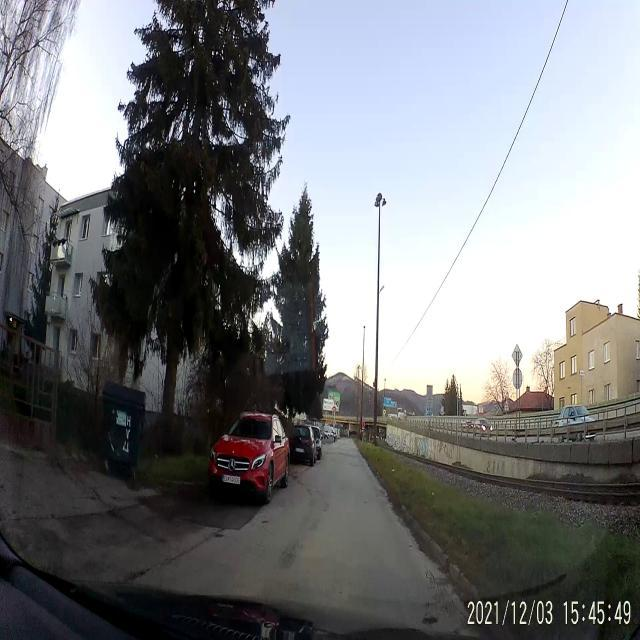Pothole: (422, 609, 440, 632)
